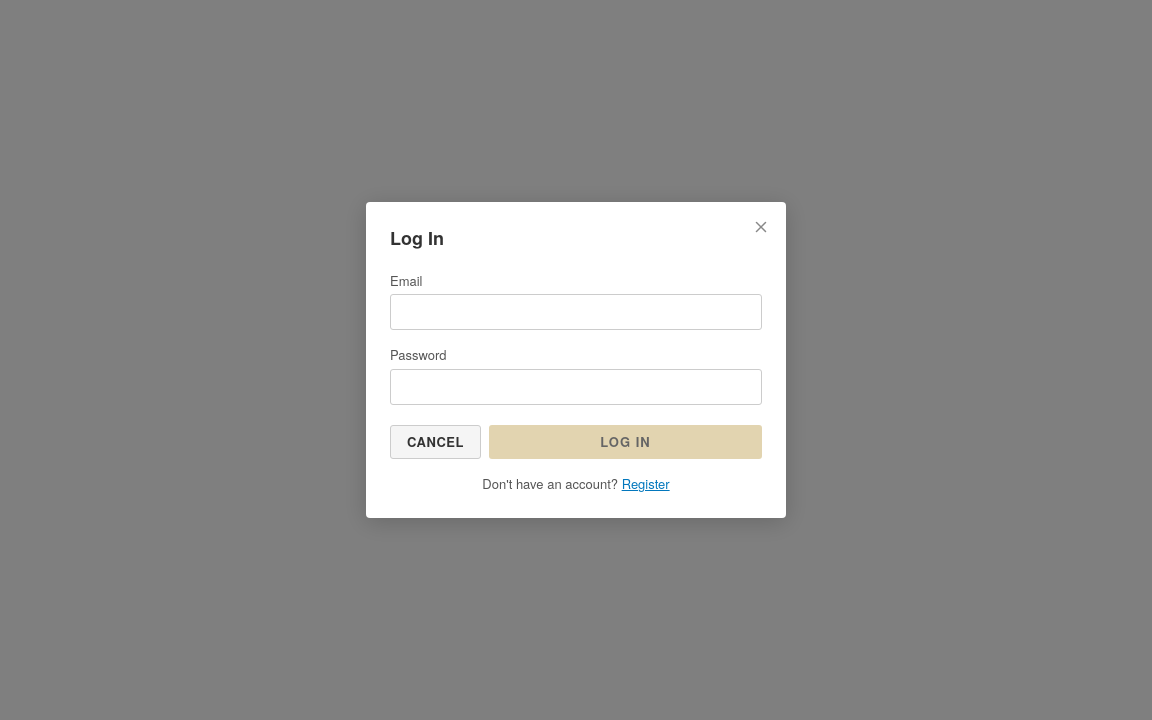
LoginModal › enables submit when both fields are valid
Type "a@b.com" into the field labelled "Email" at {"x": 576, "y": 312}, box [390, 294, 762, 330]
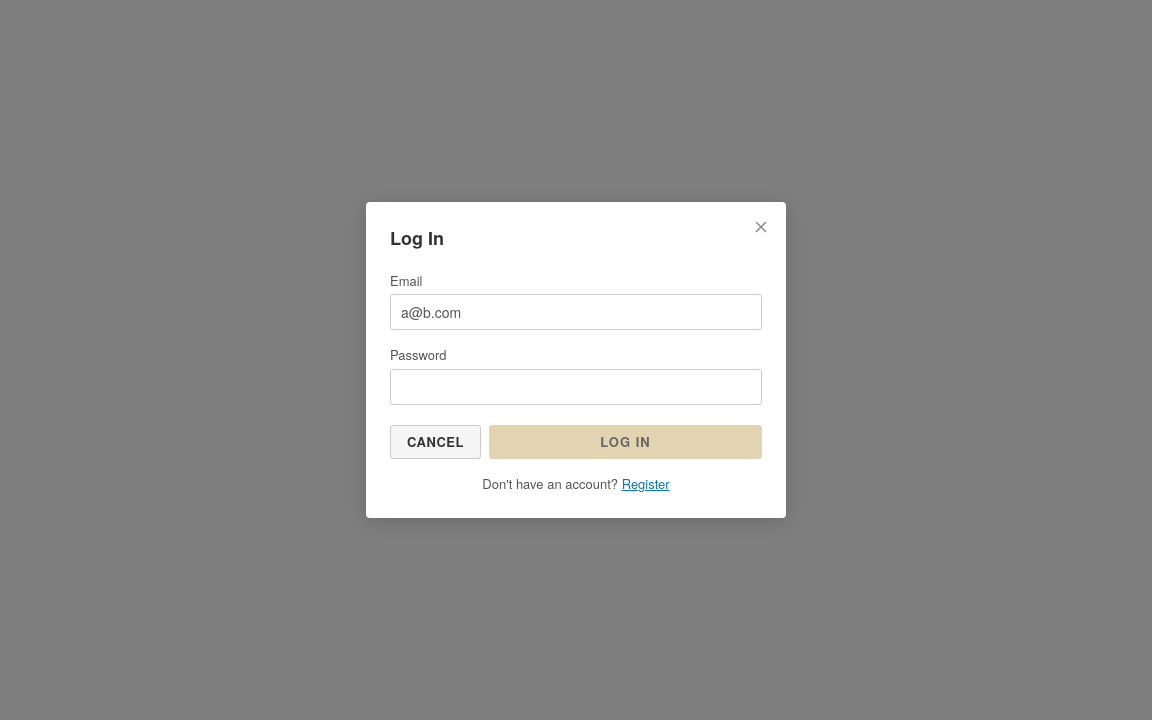
Type "anything" into the password field labelled "Password" at {"x": 576, "y": 387}, box [390, 369, 762, 405]
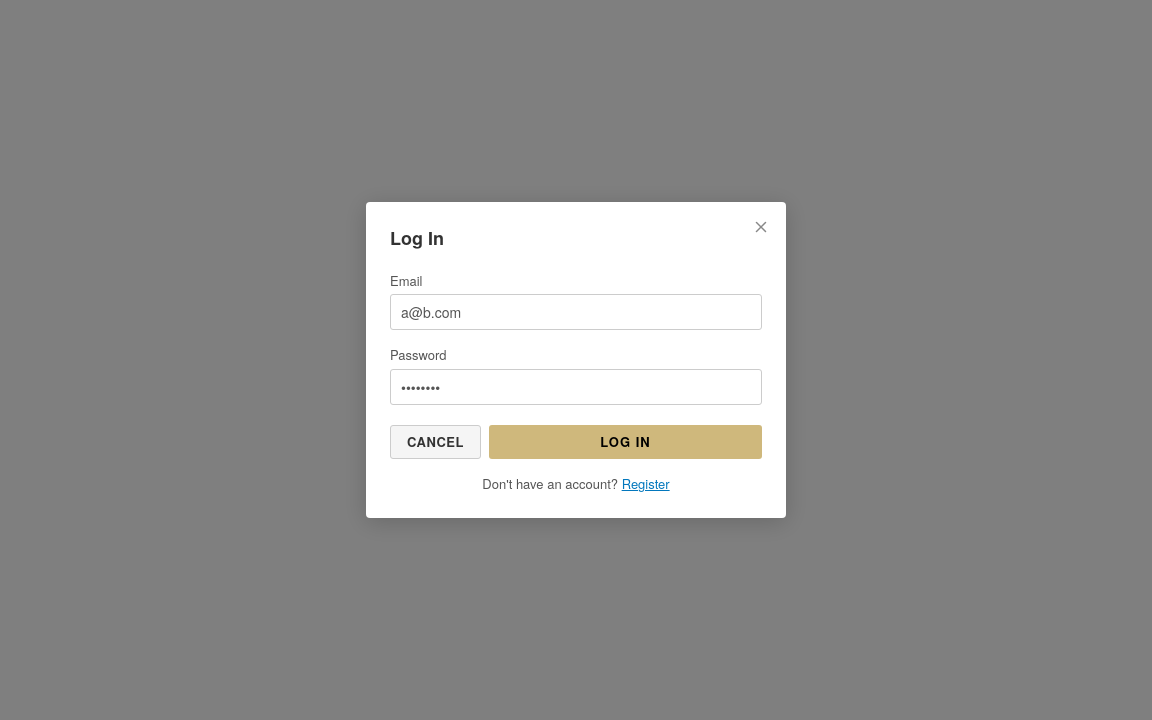
Expected: the button with test id "submit-btn" is enabled, [489, 425, 762, 459]
